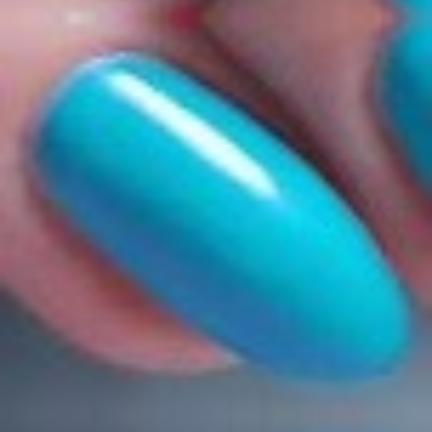Nail: (29, 47, 416, 384)
